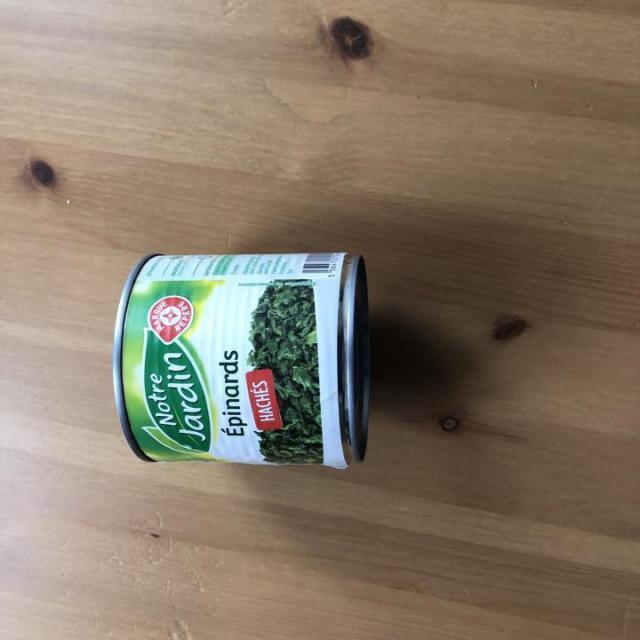recyclable: (99, 230, 378, 483)
